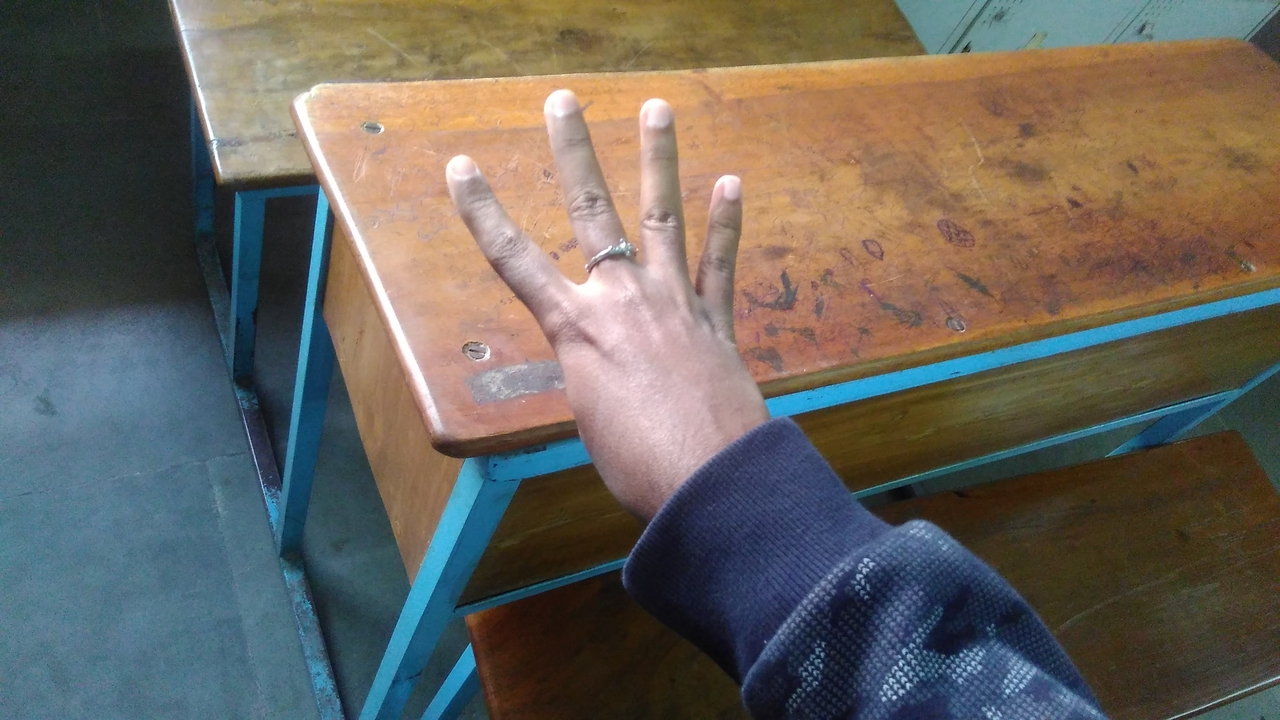fingertip: (432, 144, 494, 202), (702, 160, 752, 212), (534, 82, 590, 126), (632, 92, 680, 132)
